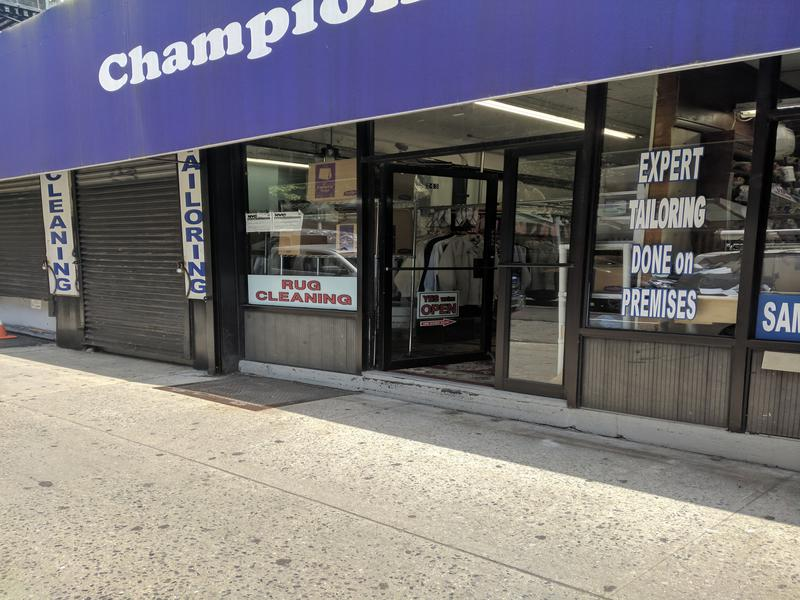door: (367, 152, 505, 376)
